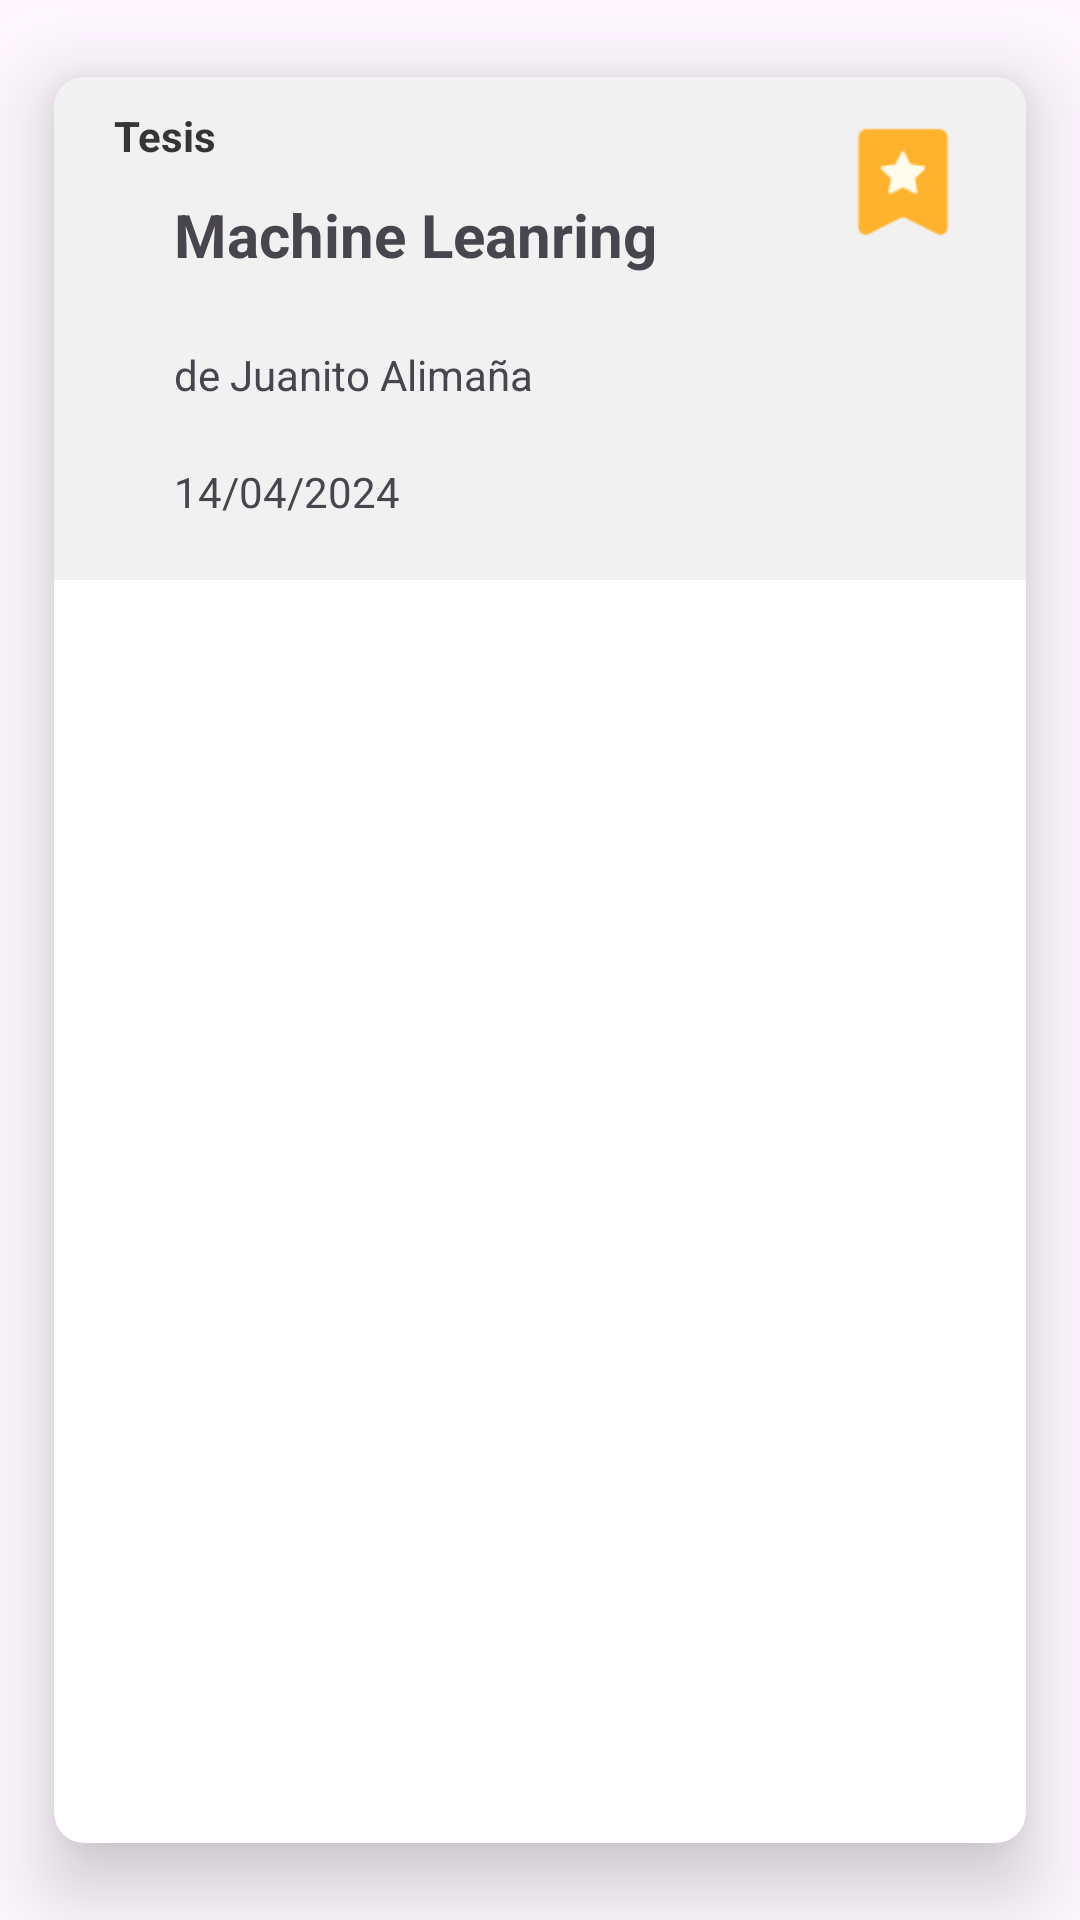

Named icons in this screenshot (1080*1920) and their centers, point (x, y):
select favorite: point (903, 182)
